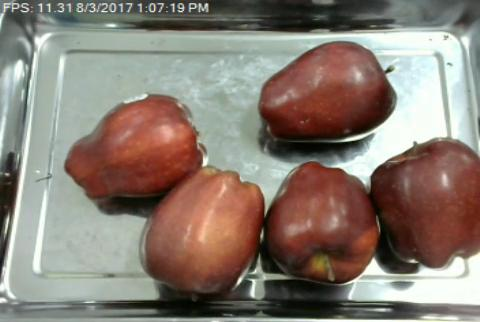Apple: (138, 164, 267, 302), (63, 91, 209, 200), (369, 135, 480, 272), (265, 159, 383, 287), (256, 39, 398, 144)
